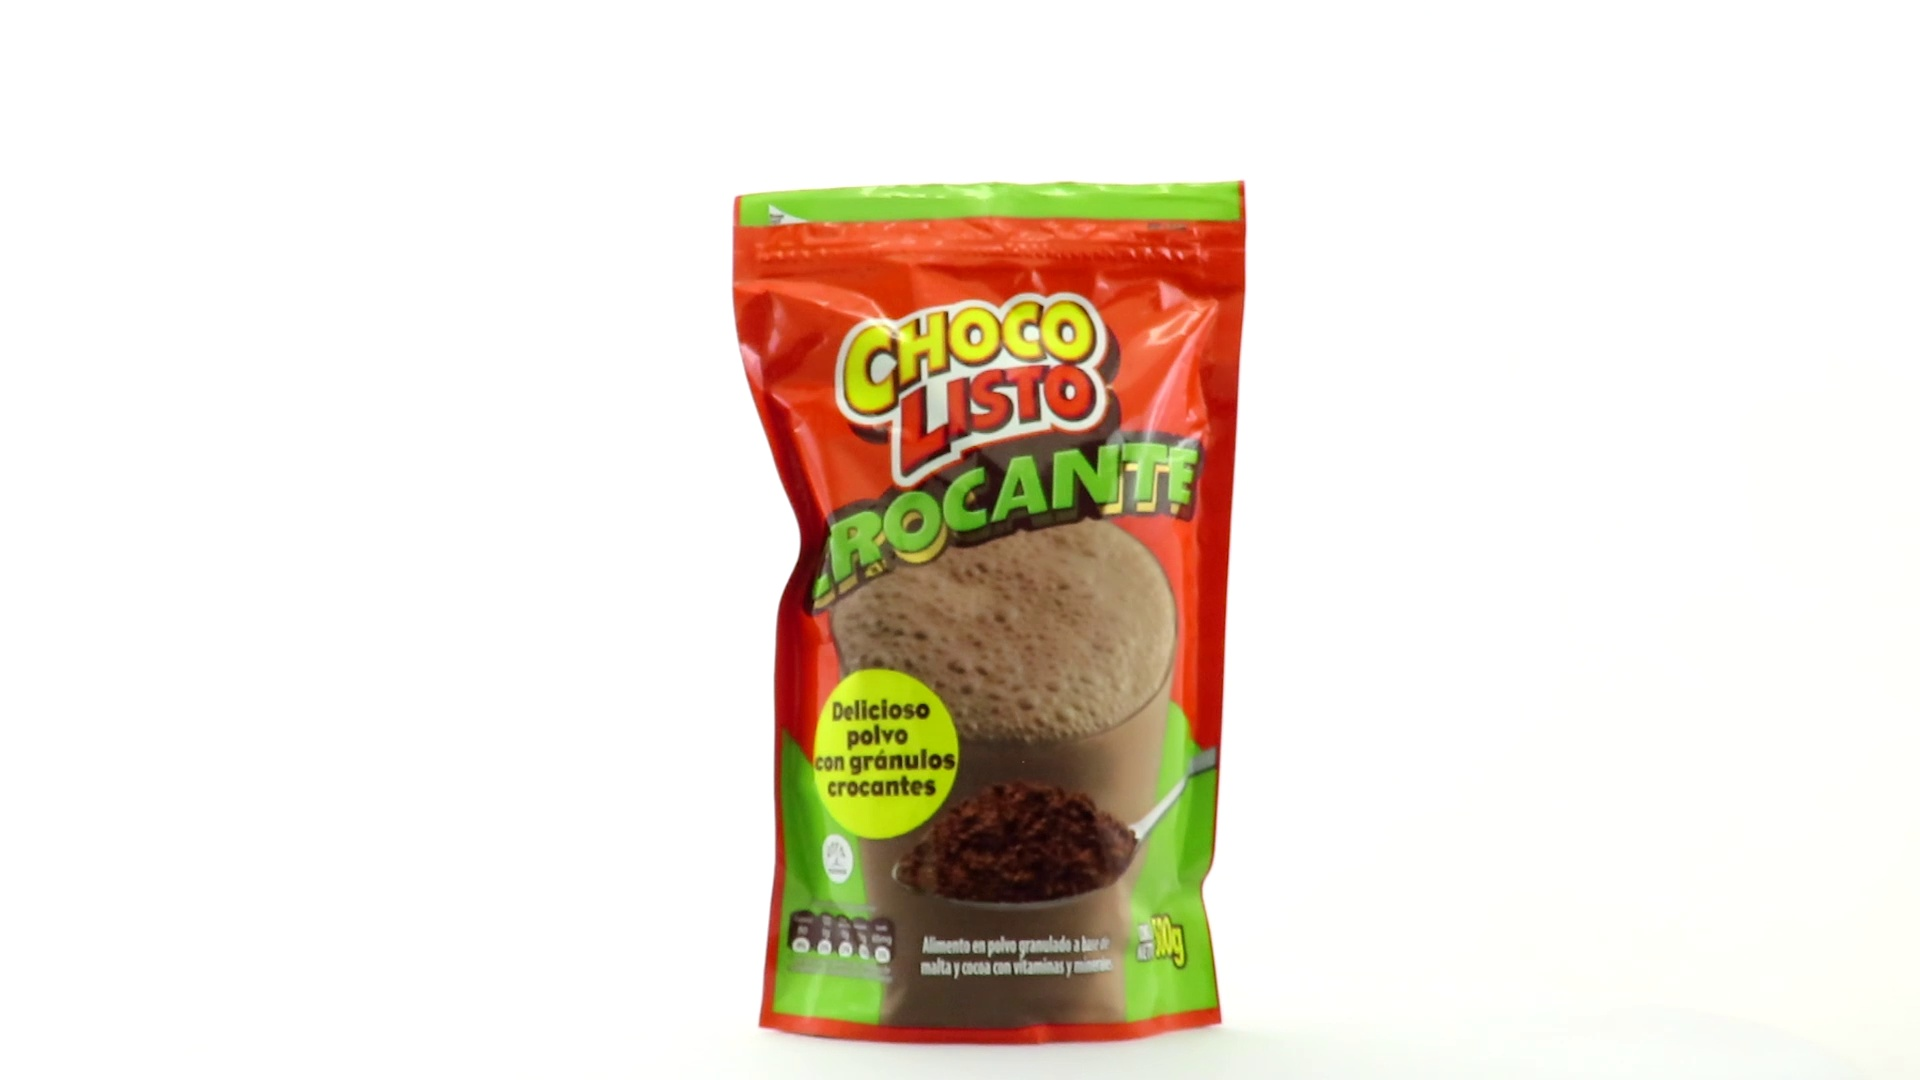COL0170102DYP50000: (727, 175, 1251, 1052)
